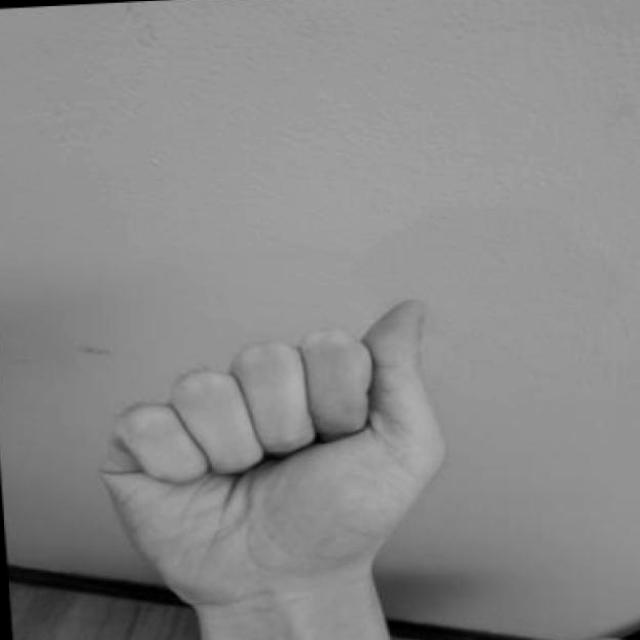A: (90, 287, 451, 640)
